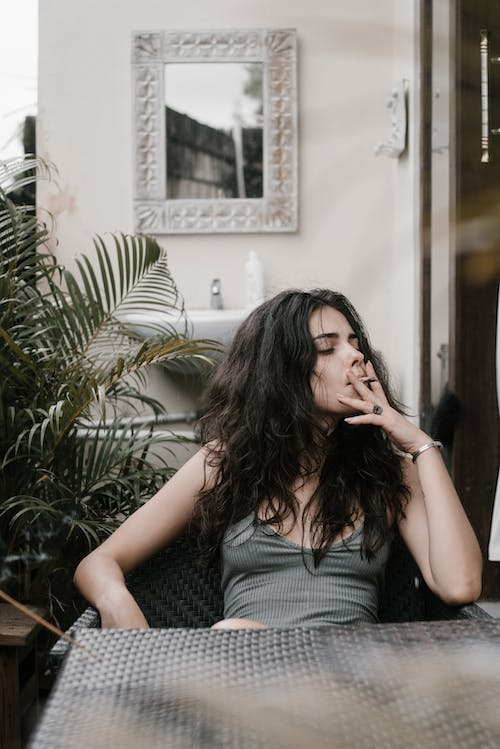cigarette: (357, 373, 380, 386)
